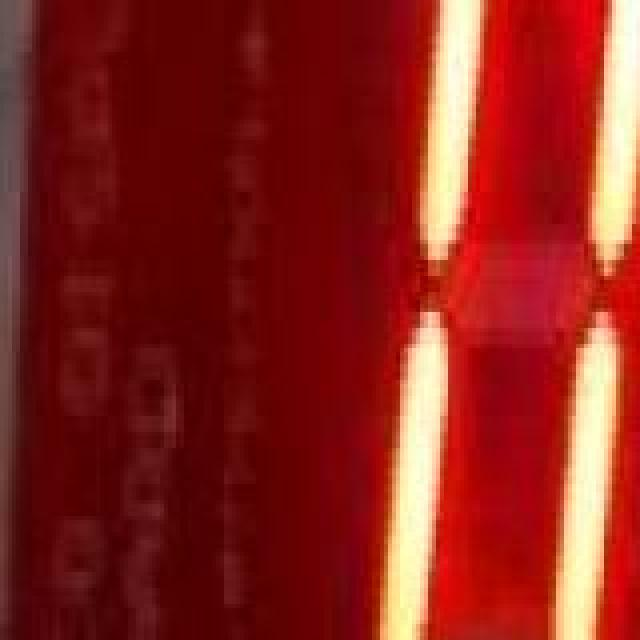display: (336, 0, 640, 640)
